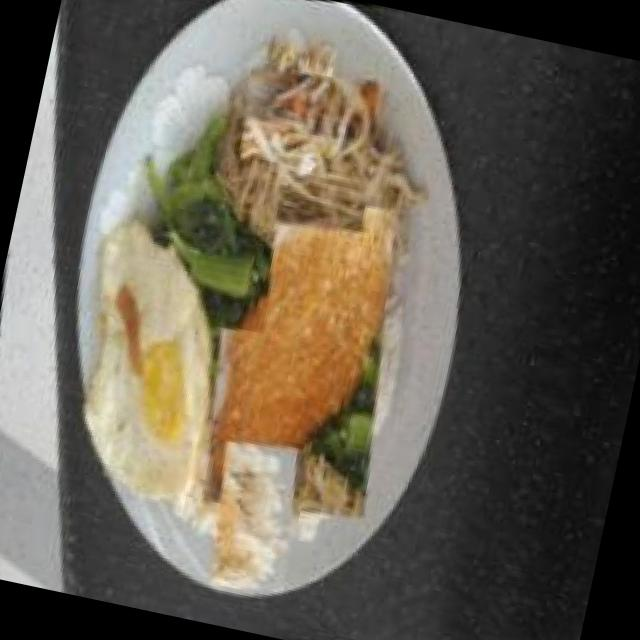fried_chicken: (164, 172, 434, 540)
fried_eggs: (40, 202, 264, 528)
mung_bean_sprouts: (210, 53, 400, 243)
rice: (179, 442, 327, 590)
water_spinach: (129, 134, 302, 344)
